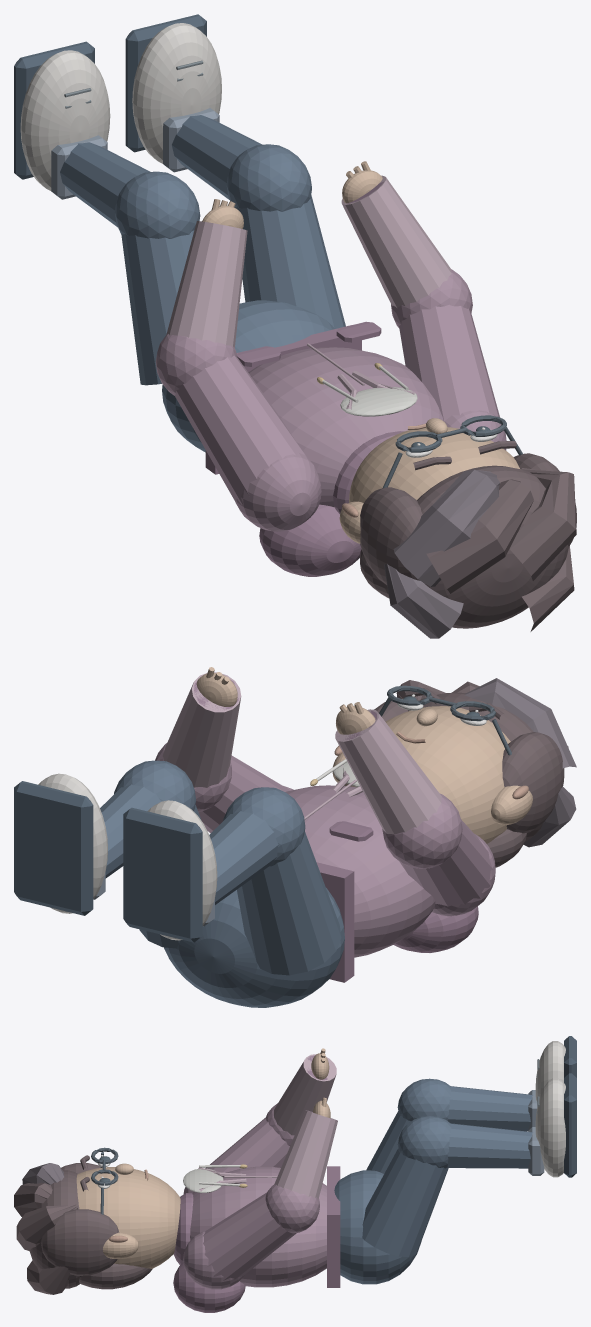
The model's file is designer_working_0.glb.
3 views of the same model, one above another, from view 1: azimuth 30°, elevation 25°; view 2: azimuth 150°, elevation 25°; view 3: azimuth 270°, elevation 25° (orthographic). The views are drawn at different scales.
Parts seen in each view (by area): view 1: 0000__hoodie_main_torso, 0057__sleeve_upper, 0065__jeans_thigh, 0050__sneaker, 0069__sneaker, 0076__sleeve_upper, 0078__sleeve_forearm, 0059__sleeve_forearm, 0022__hair_crown, 0046__jeans_thigh, 0017__face_head, 0026__hair_lock_0 (+22 smaller); view 2: 0000__hoodie_main_torso, 0046__jeans_thigh, 0051__rubber_sole, 0070__rubber_sole, 0014__pants_pelvis, 0017__face_head, 0059__sleeve_forearm, 0078__sleeve_forearm, 0024__temple_side, 0048__jeans_shin, 0057__sleeve_upper, 0058__elbow_fold (+20 smaller); view 3: 0000__hoodie_main_torso, 0017__face_head, 0065__jeans_thigh, 0014__pants_pelvis, 0076__sleeve_upper, 0025__temple_side, 0067__jeans_shin, 0078__sleeve_forearm, 0048__jeans_shin, 0069__sneaker, 0059__sleeve_forearm, 0057__sleeve_upper (+21 smaller).
Part boxes in pixels (x1,y1,x2,y2): 0000__hoodie_main_torso: (248, 347, 443, 507); 0057__sleeve_upper: (174, 355, 304, 505); 0065__jeans_thigh: (234, 195, 345, 328); 0050__sneaker: (20, 50, 110, 190); 0069__sneaker: (132, 23, 221, 163); 0076__sleeve_upper: (399, 304, 499, 421); 0078__sleeve_forearm: (341, 175, 451, 307); 0059__sleeve_forearm: (166, 221, 247, 347); 0022__hair_crown: (417, 465, 568, 628); 0046__jeans_thigh: (121, 230, 194, 385); 0017__face_head: (349, 427, 519, 502); 0026__hair_lock_0: (393, 469, 499, 586); 0000__hoodie_main_torso: (285, 785, 435, 957); 0046__jeans_thigh: (237, 832, 341, 975); 0051__rubber_sole: (123, 807, 202, 942); 0070__rubber_sole: (14, 781, 93, 915); 0014__pants_pelvis: (164, 888, 344, 1007); 0017__face_head: (345, 706, 510, 843); 0059__sleeve_forearm: (335, 709, 441, 834); 0078__sleeve_forearm: (162, 672, 241, 787); 0024__temple_side: (502, 732, 564, 833); 0048__jeans_shin: (209, 811, 278, 904); 0057__sleeve_upper: (400, 819, 493, 906); 0058__elbow_fold: (382, 793, 462, 868); 0000__hoodie_main_torso: (190, 1166, 326, 1287); 0017__face_head: (76, 1167, 180, 1268); 0065__jeans_thigh: (362, 1148, 448, 1257); 0014__pants_pelvis: (334, 1170, 421, 1284); 0076__sleeve_upper: (203, 1192, 296, 1280); 0025__temple_side: (41, 1209, 119, 1275); 0067__jeans_shin: (447, 1123, 532, 1168); 0078__sleeve_forearm: (274, 1110, 337, 1198); 0048__jeans_shin: (447, 1086, 532, 1131); 0069__sneaker: (535, 1078, 565, 1177); 0059__sleeve_forearm: (274, 1054, 336, 1135); 0057__sleeve_upper: (205, 1118, 289, 1172).
Bounding box in the file's own units: 0.794 × 0.8228 × 1.85.
